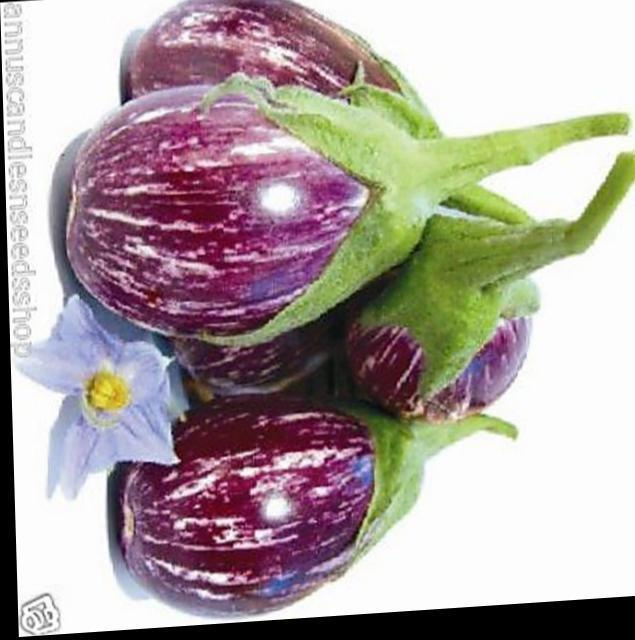eggplant: (62, 0, 610, 341), (110, 319, 478, 632), (317, 157, 634, 476)
